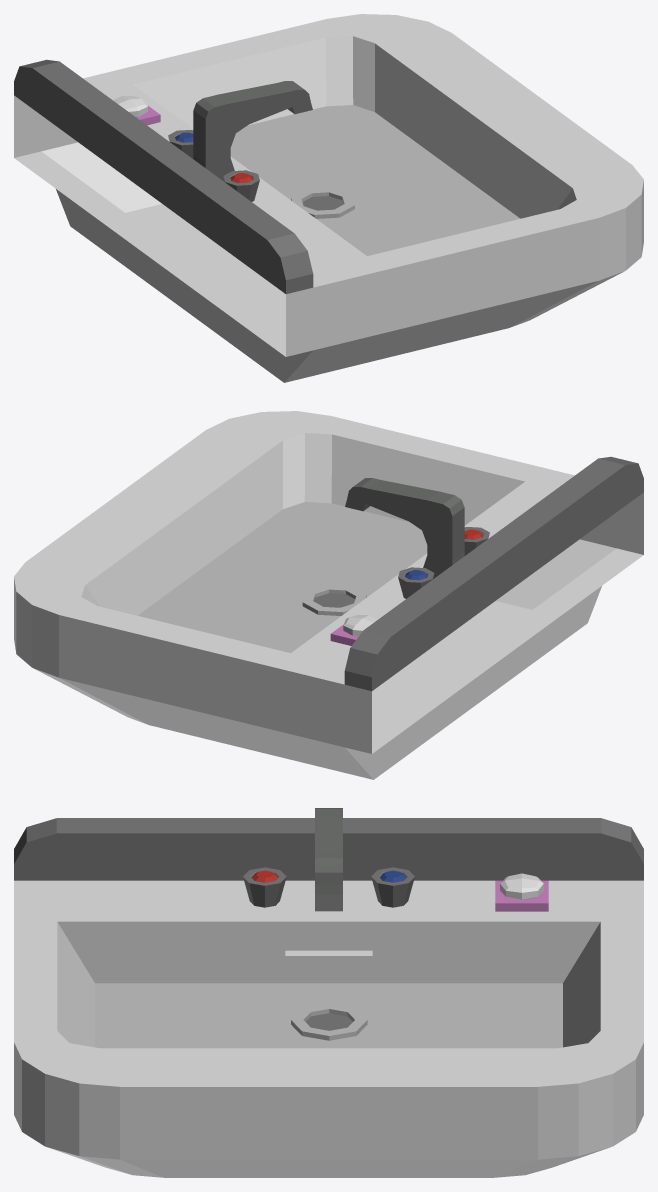
The model's file is SM_Sink_02.glb.
3 renders of one model, top to bottom at view 1: azimuth 30°, elevation 25°; view 2: azimuth 150°, elevation 25°; view 3: azimuth 270°, elevation 25°, orthographic. The views are drawn at different scales.
Parts seen in each view (by area): view 1: SM_Sink_02; view 2: SM_Sink_02; view 3: SM_Sink_02.
Boxes of the visible parts, box(x1,y1,x2,y2) form: SM_Sink_02: box(14, 14, 643, 382); SM_Sink_02: box(14, 411, 643, 779); SM_Sink_02: box(14, 808, 643, 1177).
Bounding box in the file's own units: 0.7091 × 0.3354 × 0.8514.
1 material, 1 textured.
